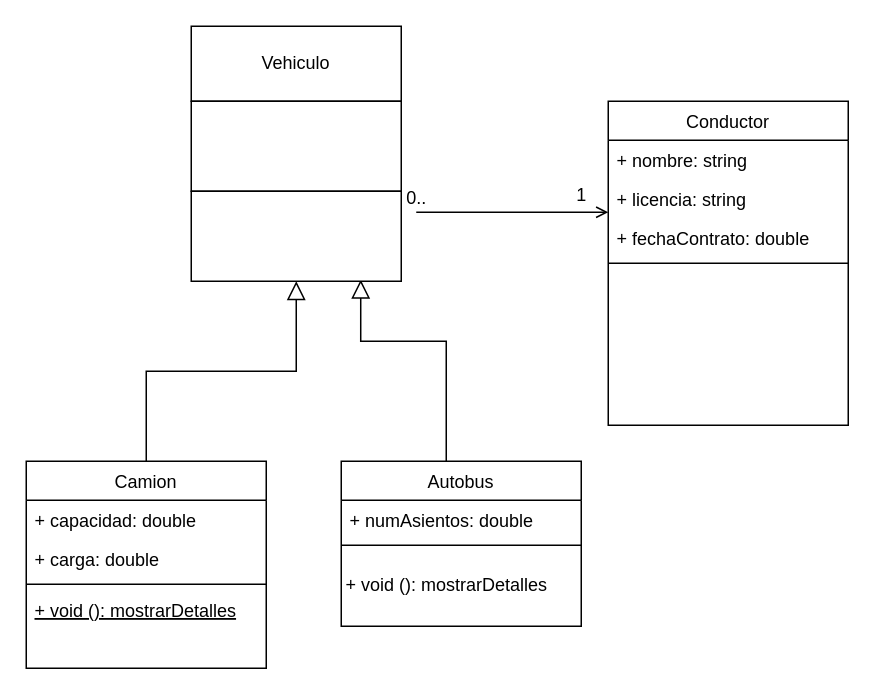
This 875x695 diagram has some shape labels left out. The shapes that lost their labels are listed below. From the top down, each one's centre as x and y in pixels, then its label:
At [295,145]: "+ matricula: double + añoFabricacion: double + kilometraje: double".
At [295,235]: "+ void(): mostrarDatos".
